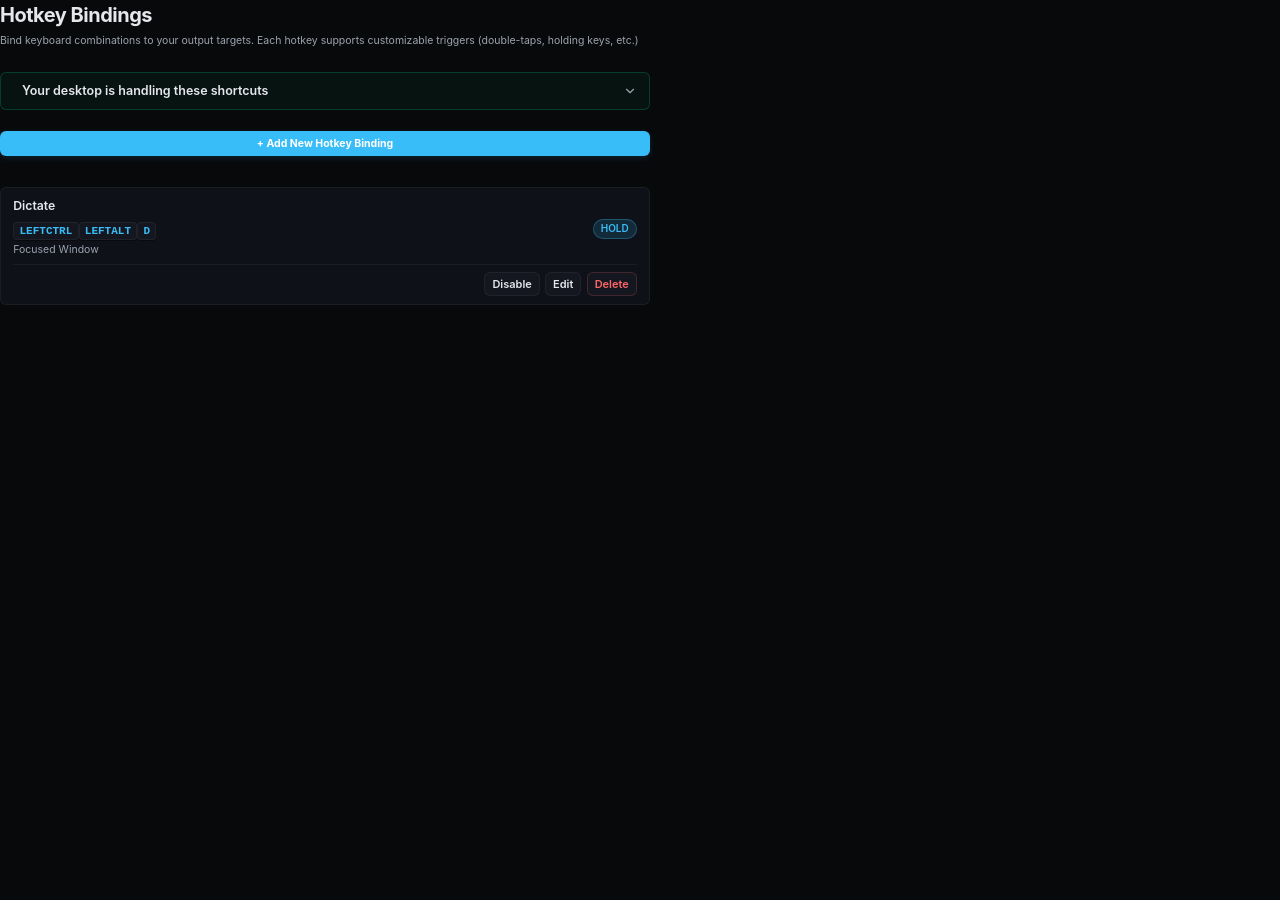
Scenario: HotkeysTab.svelte Conflict Detection and Nested Modal › accepts a valid combination and shows what the desktop will bind
The image size is (1280, 900).
Click the button "Edit" at coordinates (563, 284), box [545,272,581,296]
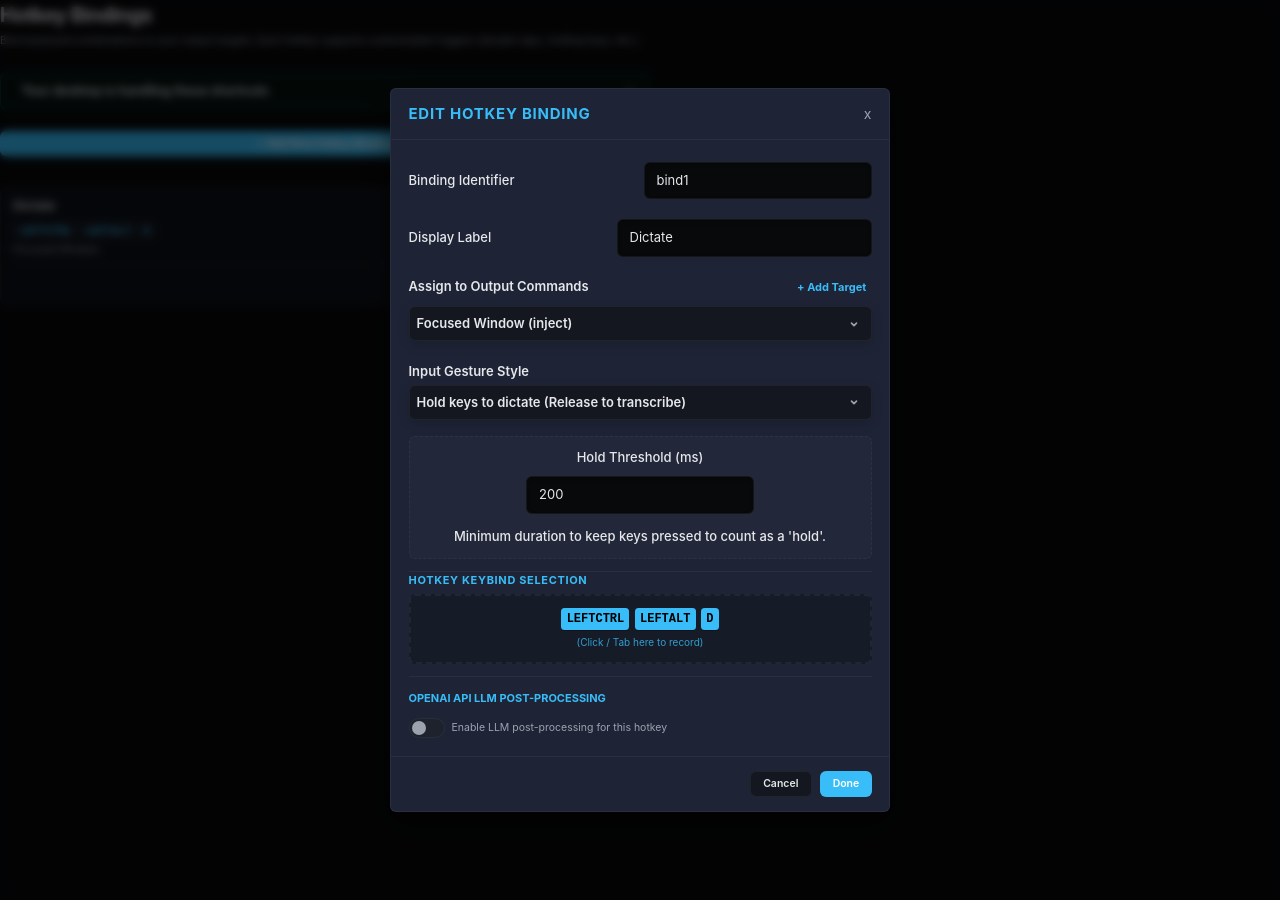
Focus the button with aria-label "Base Hotkey recorder input" at coordinates (640, 629), box [408,594,872,664]
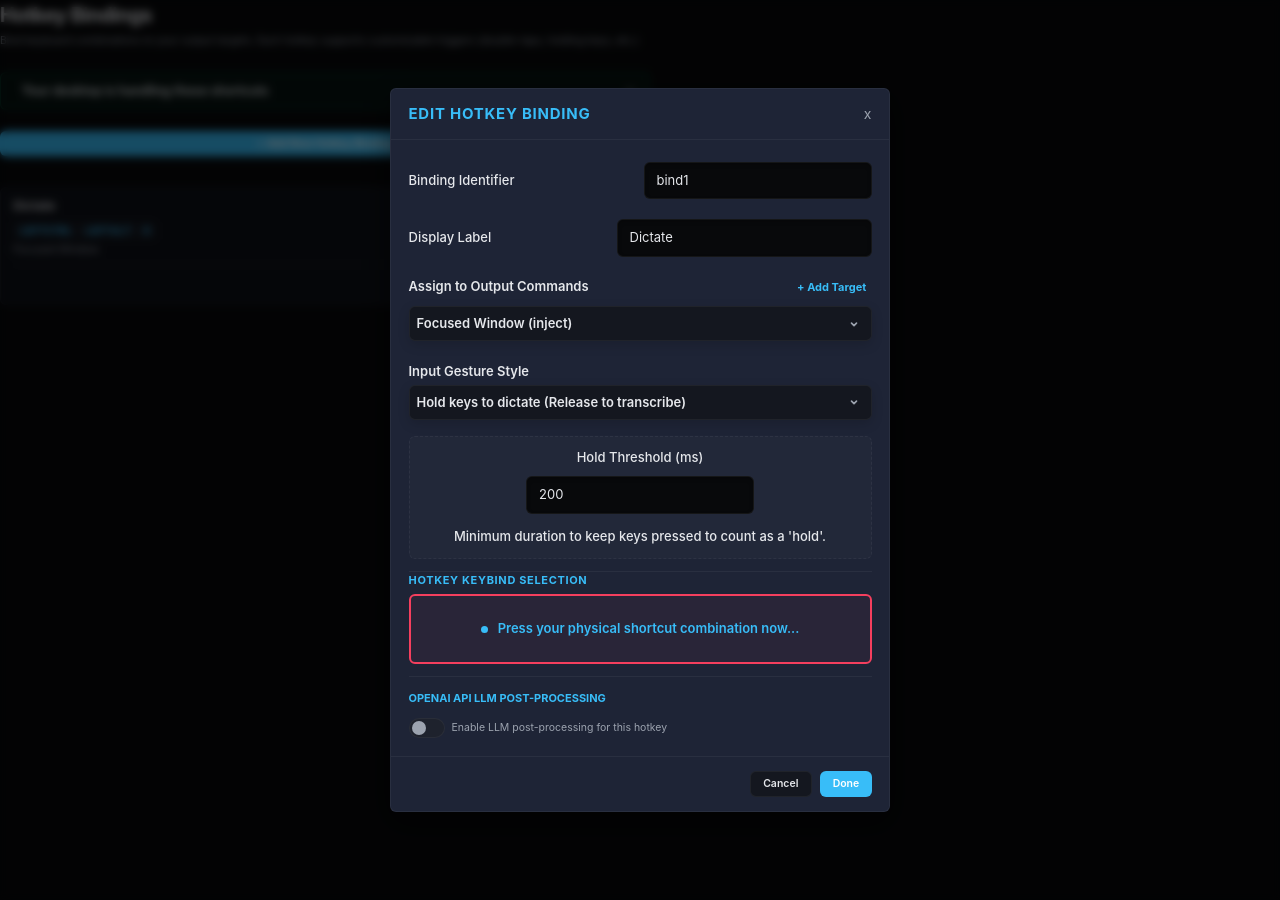
Press Meta in the button with aria-label "Base Hotkey recorder input", box [408,594,872,664]
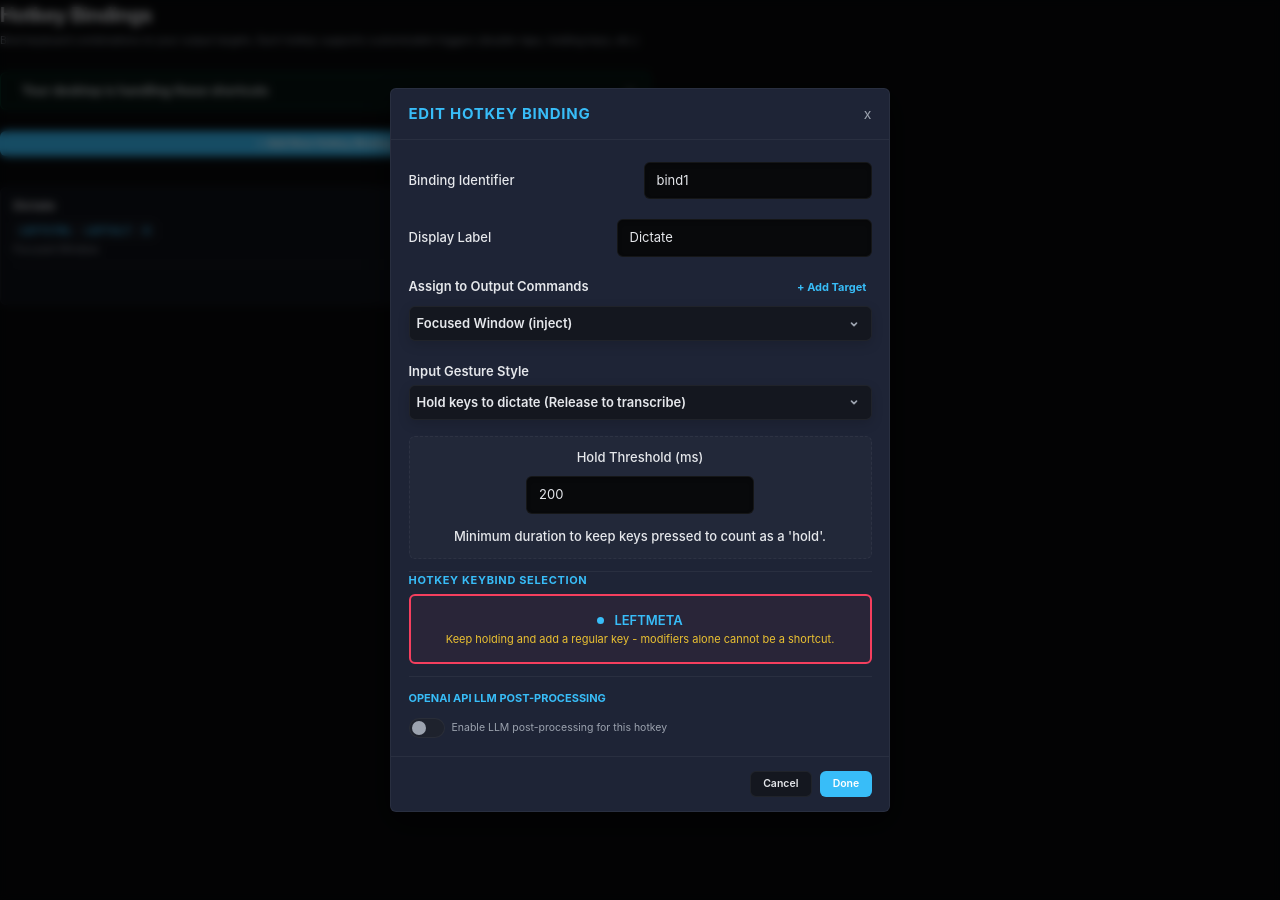
Press Space in the button with aria-label "Base Hotkey recorder input", box [408,594,872,664]
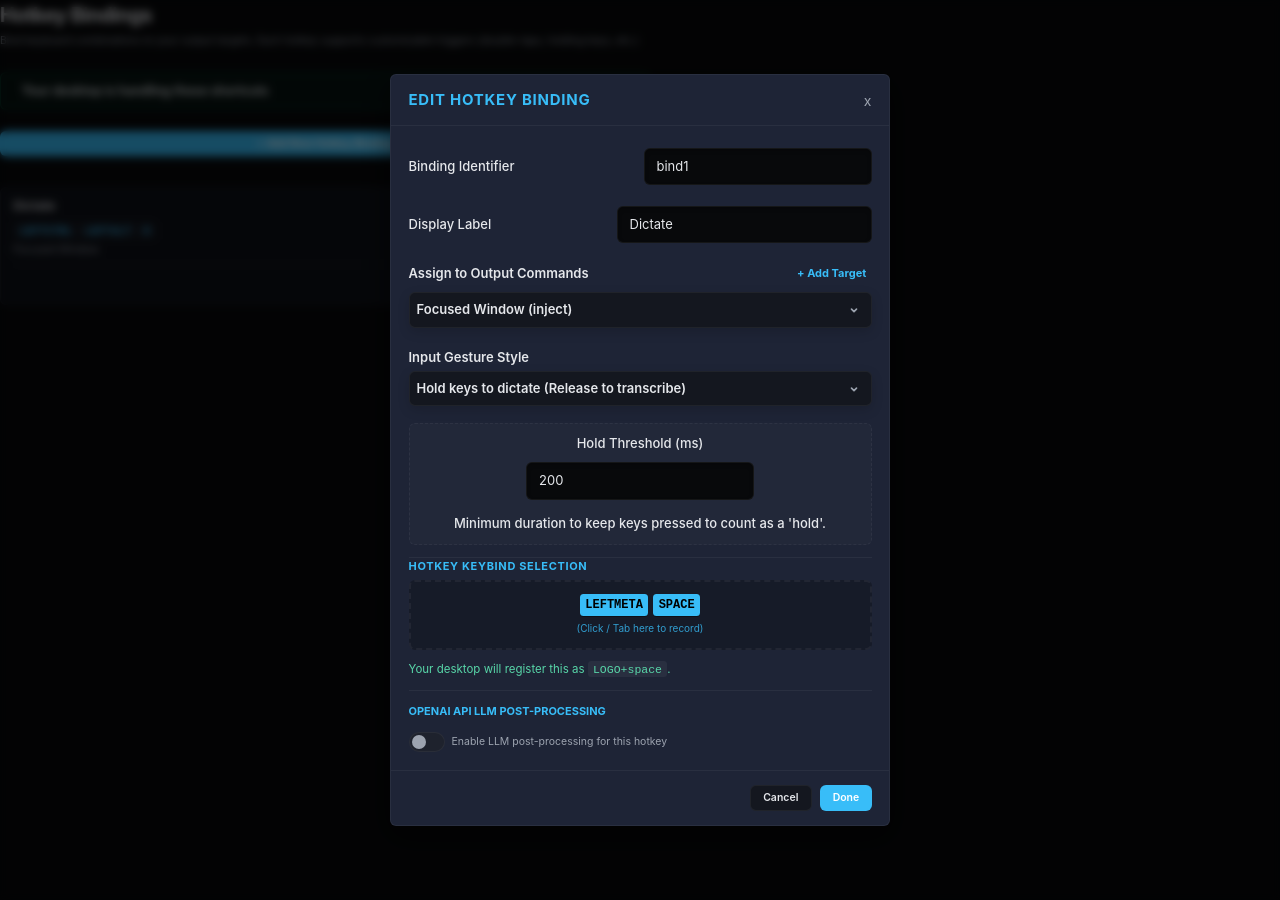
Now the text "LOGO+space" is shown, box [588,661,667,677]
